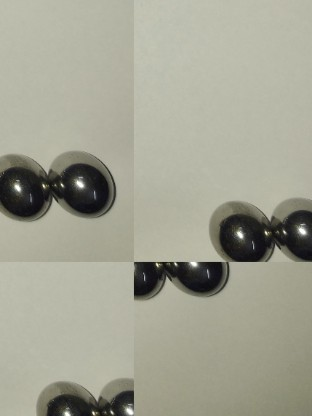ironball: (51, 143, 119, 224), (205, 194, 274, 261), (0, 145, 52, 227), (159, 254, 244, 300), (31, 368, 104, 414), (269, 188, 310, 266), (121, 259, 167, 305), (92, 366, 135, 414)
